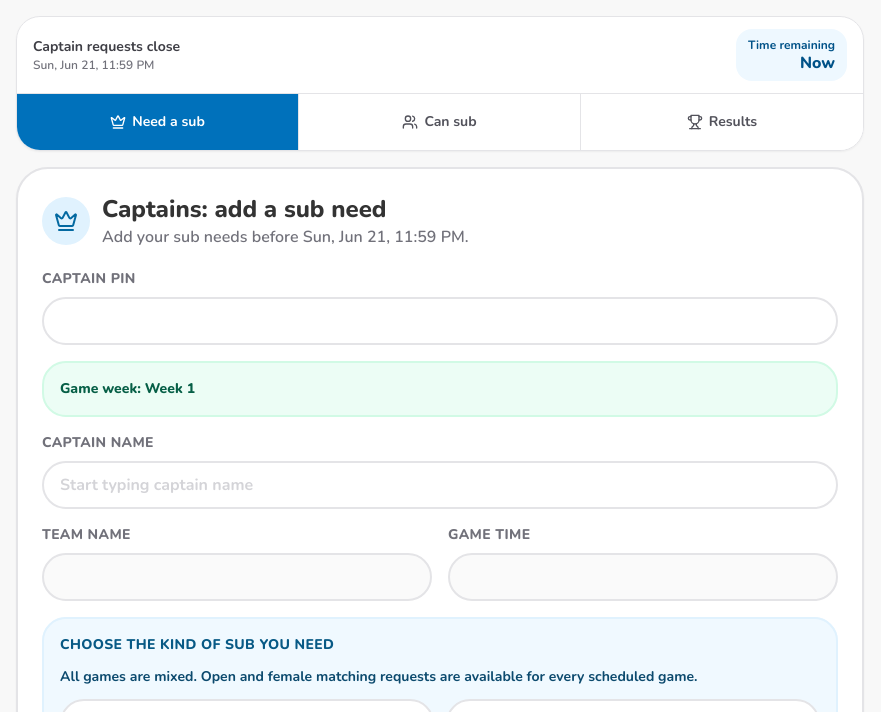
Test case: SubLotteryWorkspace › lets users open results before the draw without hiding the other tasks
Click the tab "Results": (722, 122) x1=581 y1=94 x2=863 y2=150
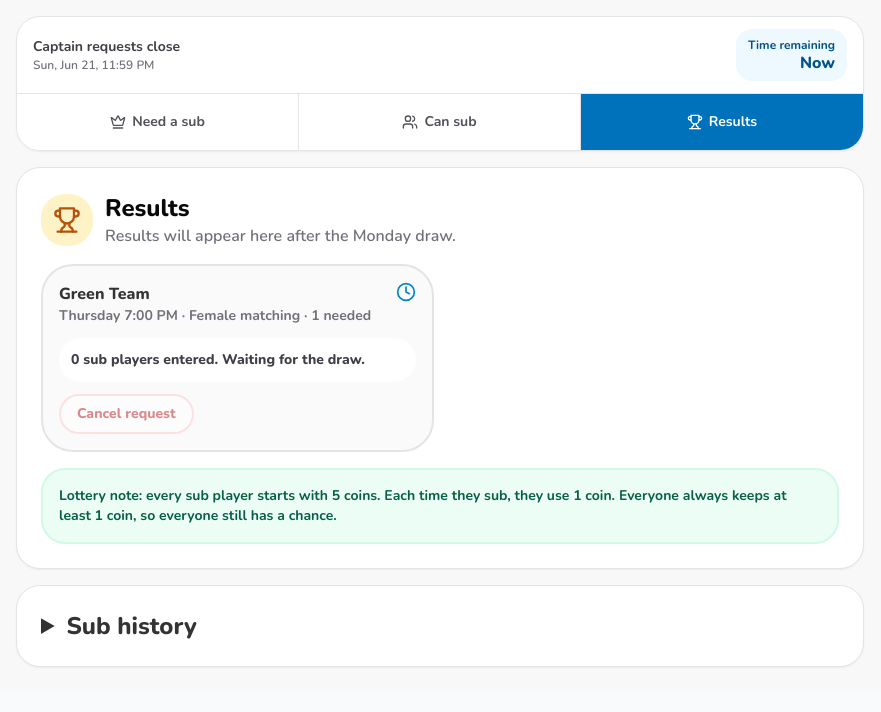
Expected: the heading "Results" is shown, x1=105 y1=192 x2=190 y2=224
Expected: the text "Results will appear here after the Monday draw." is shown, x1=105 y1=224 x2=456 y2=248
Expected: the text "0 sub players entered. Waiting for the draw." is shown, x1=59 y1=338 x2=416 y2=382
